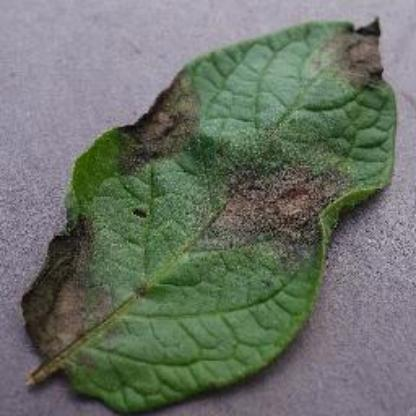Late-Blight: (16, 12, 406, 416)
